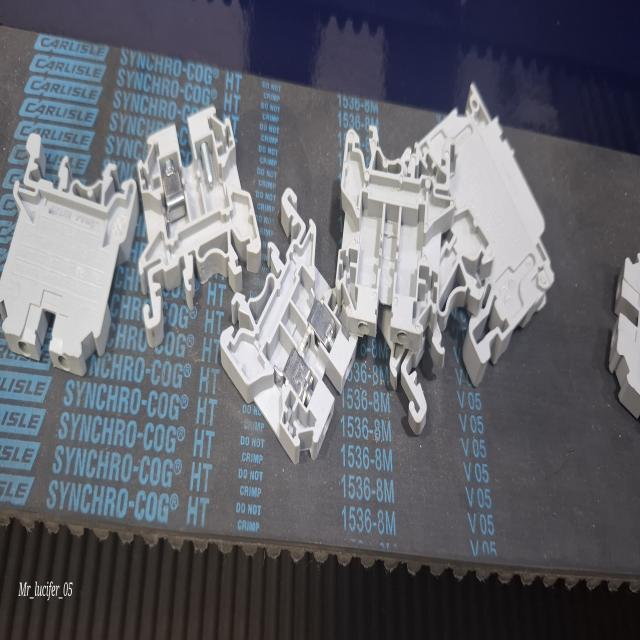Inverted: (0, 128, 137, 376)
Pass: (219, 187, 360, 461)
Reject: (136, 103, 264, 345), (334, 117, 452, 355)
